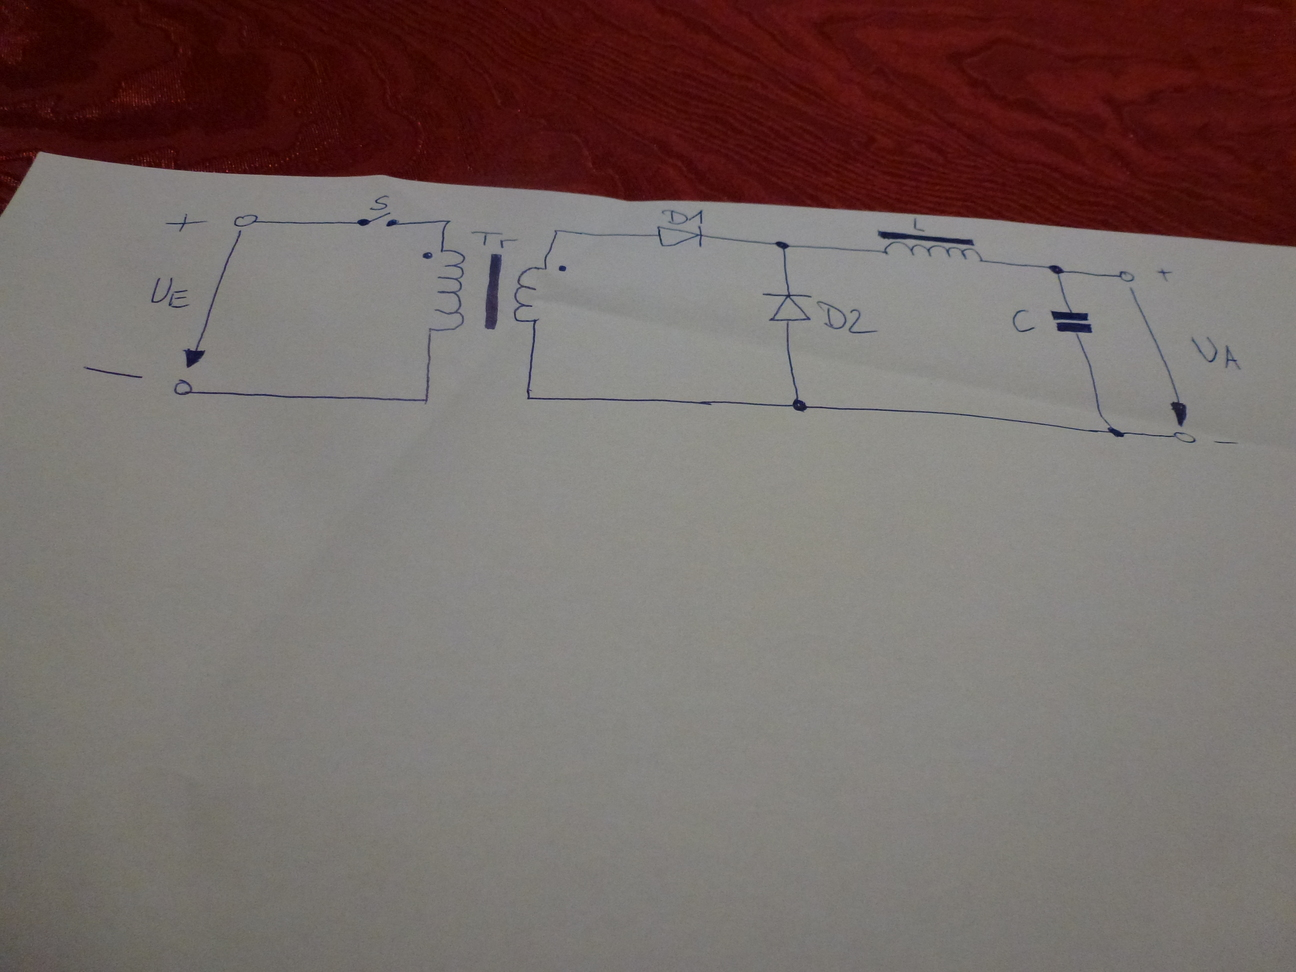capacitor.unpolarized: (1046, 308, 1096, 336)
diode: (760, 288, 819, 325), (655, 224, 705, 252)
inductor: (874, 227, 987, 265)
junction: (1100, 422, 1125, 441), (770, 235, 795, 253), (1046, 260, 1067, 278), (790, 396, 809, 415), (521, 389, 535, 403), (437, 217, 452, 229), (420, 393, 433, 406), (550, 225, 561, 236)
switch: (355, 210, 401, 230)
terminal: (169, 375, 197, 399), (230, 209, 260, 229), (1172, 430, 1199, 445), (1115, 268, 1138, 284)
text: (816, 300, 880, 336), (1189, 332, 1244, 372), (145, 275, 191, 310), (469, 227, 524, 250), (1008, 305, 1037, 336), (660, 207, 705, 227), (365, 192, 393, 213), (911, 216, 928, 234)
transformer: (415, 246, 570, 334)
